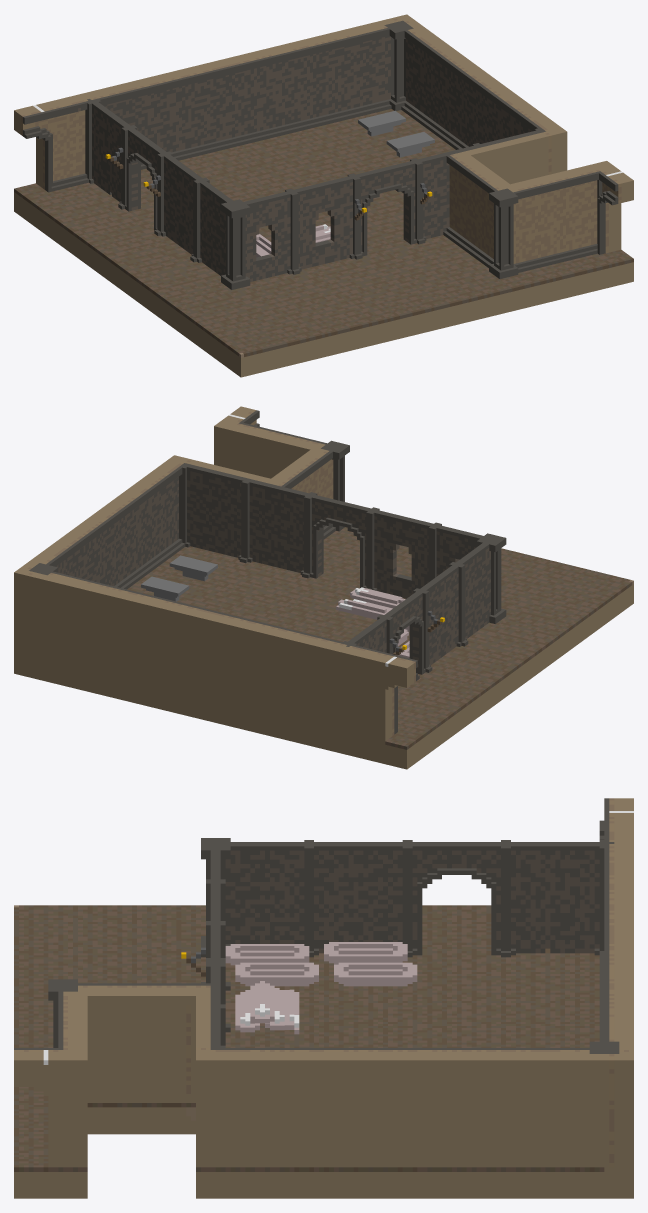
Rendered from CasketRoom-3.obj.
The picture shows the model from 3 angles, top to bottom: view 1: azimuth 30°, elevation 25°; view 2: azimuth 150°, elevation 25°; view 3: azimuth 270°, elevation 25°; orthographic projection. The views are drawn at different scales.
Size of the model in its own units: 12.6 by 3.1 by 12.6.
Materials: 1 (1 with a texture image).
